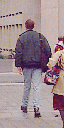person: (9, 16, 45, 110)
